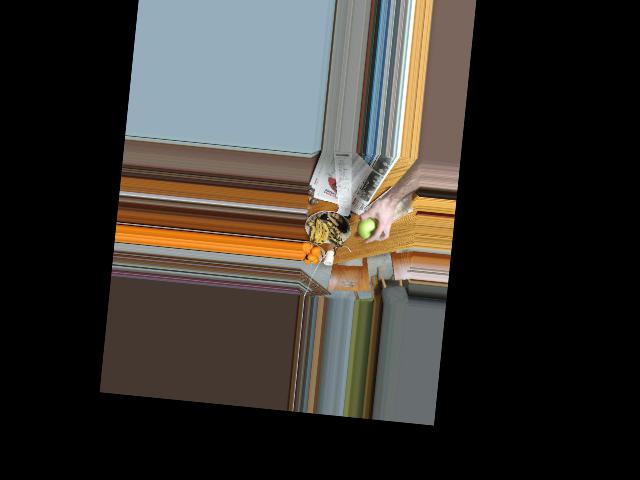apple: (354, 216, 379, 242)
